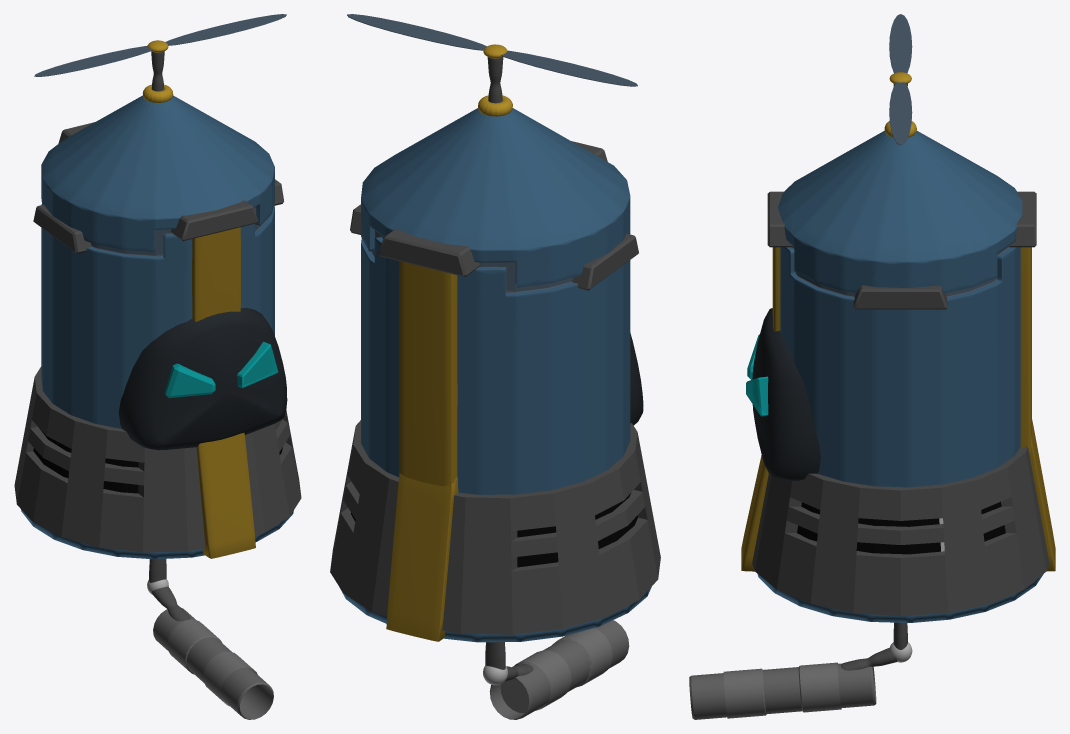
The model's file is Laser groupoedf.fbx.
3 renders of one model, left to right at view 1: azimuth 30°, elevation 25°; view 2: azimuth 150°, elevation 25°; view 3: azimuth 270°, elevation 25°, orthographic. The views are drawn at different scales.
Parts seen in each view (by area): view 1: pCylinder7; view 2: pCylinder7; view 3: pCylinder7.
Part boxes in pixels (x1,y1,x2,y2): pCylinder7: (14,14,301,719); pCylinder7: (330,14,660,719); pCylinder7: (689,14,1055,719).
Size of the model in its own units: 3.25 by 7.43 by 3.83.
